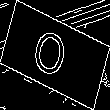O_S: (34, 24, 76, 86)
